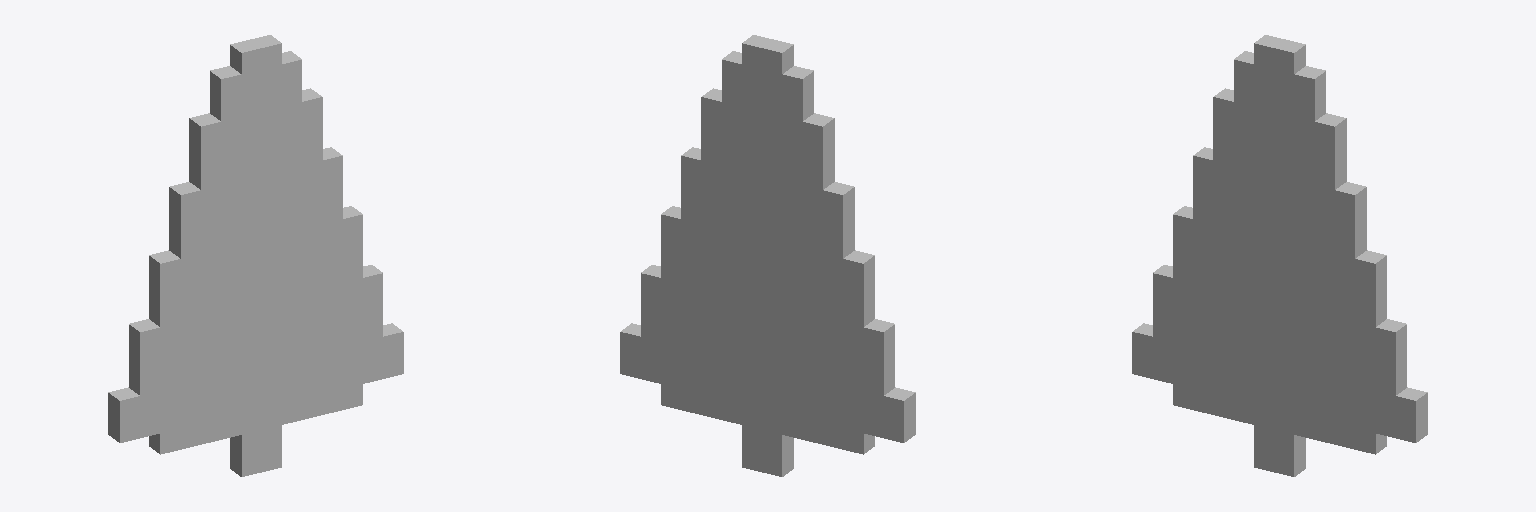
File: Tree.obj
3 views of the same model, side by side, from view 1: azimuth 30°, elevation 25°; view 2: azimuth 150°, elevation 25°; view 3: azimuth 330°, elevation 25° (orthographic).
Parts seen in each view (by area): view 1: Tree; view 2: Tree; view 3: Tree.
Part boxes in pixels (x1,y1,x2,y2): Tree: (108, 35, 403, 476); Tree: (620, 35, 915, 476); Tree: (1132, 35, 1427, 476).
Size of the model in its own units: 14 by 20 by 1.